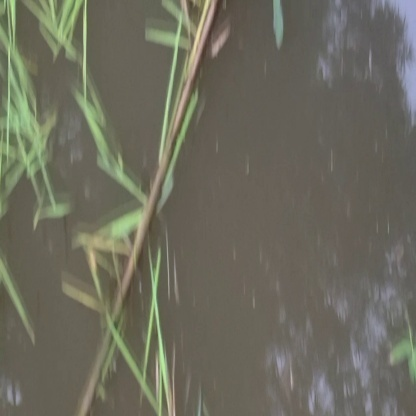branch: (74, 10, 270, 416)
